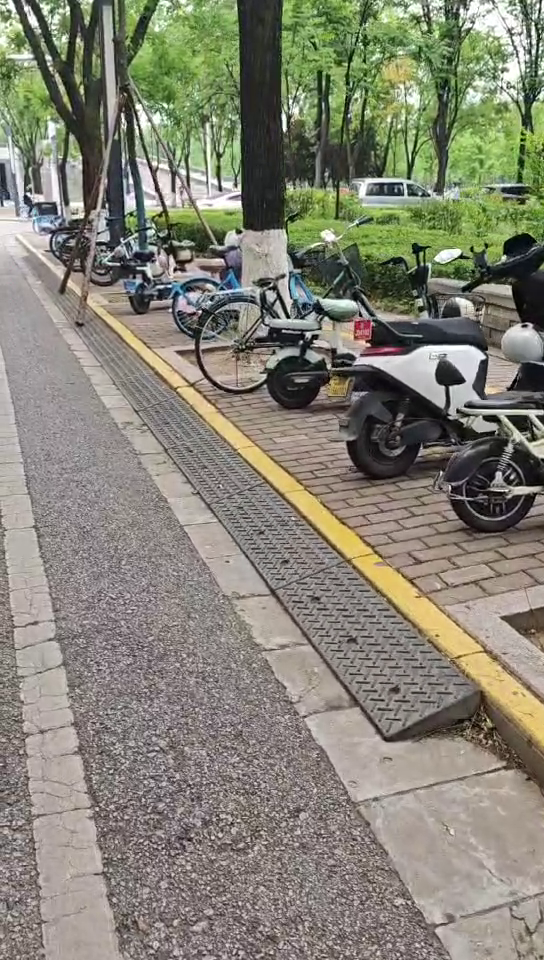others: (346, 234, 544, 495), (255, 254, 440, 414), (195, 258, 385, 393), (436, 314, 544, 541), (111, 224, 175, 326)
shared_bike_haluo: (165, 250, 318, 342)
